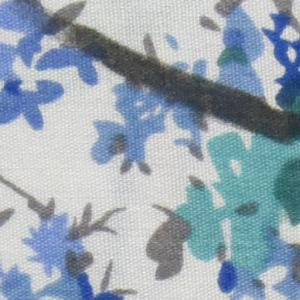Stain: (7, 1, 300, 154)
